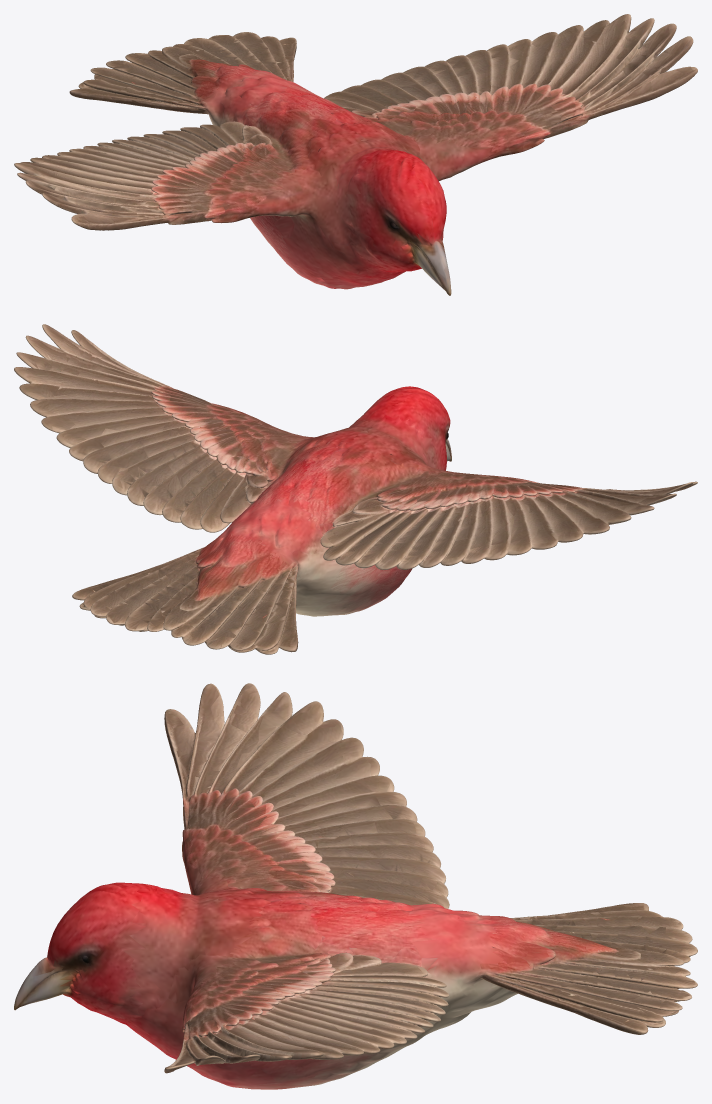
The model's file is Carpodacus_erythrinus.glb.
3 views of the same model, one above another, from view 1: azimuth 30°, elevation 25°; view 2: azimuth 150°, elevation 25°; view 3: azimuth 270°, elevation 25° (orthographic). The views are drawn at different scales.
Visible parts, largest first — view 1: orient; view 2: orient; view 3: orient.
Part boxes in pixels (x1,y1,x2,y2): orient: (14,14,697,295); orient: (14,324,697,654); orient: (14,683,697,1089).
Size of the model in its own units: 0.5001 by 0.1326 by 0.3875.
1 material, 1 textured.
